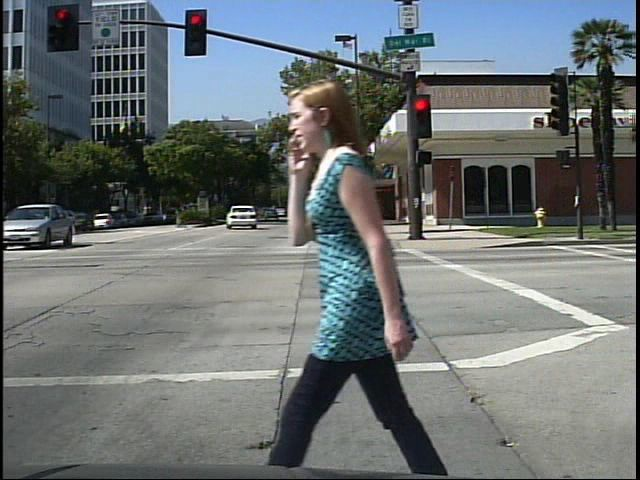person: (276, 65, 463, 480)
